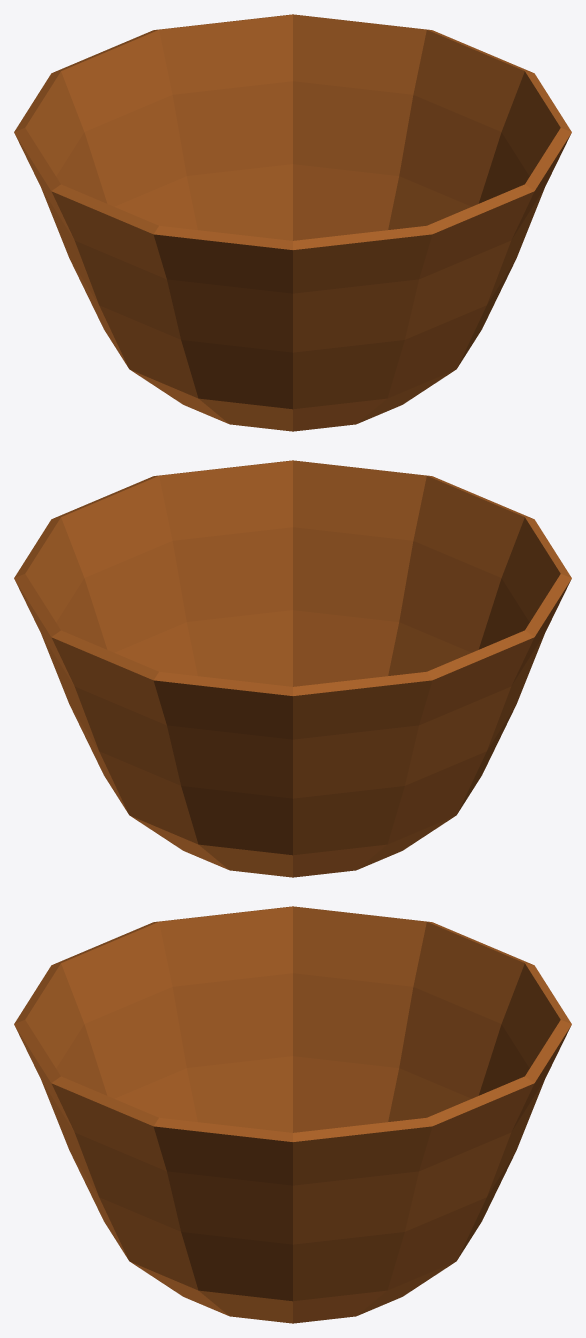
Rendered from SM_pottery_002.FBX.
3 renders of one model, top to bottom at view 1: azimuth 30°, elevation 25°; view 2: azimuth 150°, elevation 25°; view 3: azimuth 270°, elevation 25°, orthographic.
Parts seen in each view (by area): view 1: Object086; view 2: Object086; view 3: Object086.
Boxes of the visible parts, x1,y1,x2,y2 form: Object086: (14, 14, 571, 431); Object086: (14, 460, 571, 877); Object086: (14, 906, 571, 1323).
Bounding box in the file's own units: 78.06 × 38.64 × 78.06.
